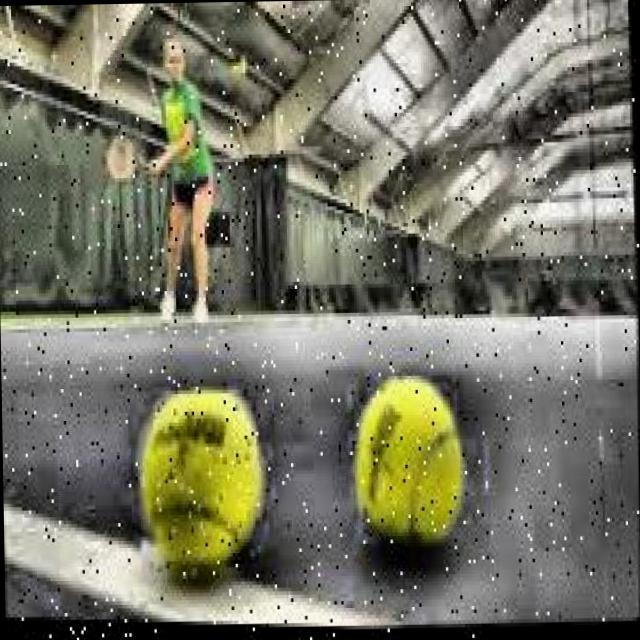Tennis Ball: (132, 391, 264, 592), (354, 373, 469, 570), (230, 58, 243, 80)
